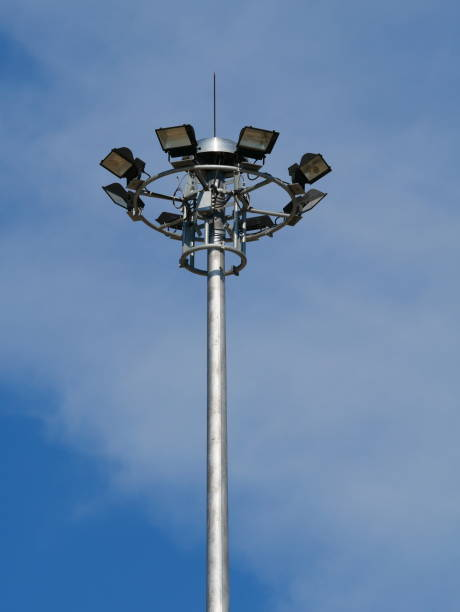light_pole: (204, 266, 234, 612)
